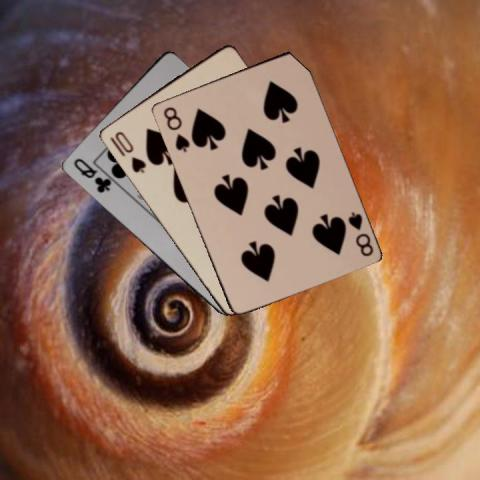10s: (111, 128, 147, 174)
8s: (160, 103, 191, 154), (344, 209, 374, 258)
Qc: (70, 154, 113, 194)
